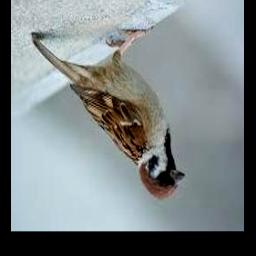Sparrow: (32, 29, 184, 201)
